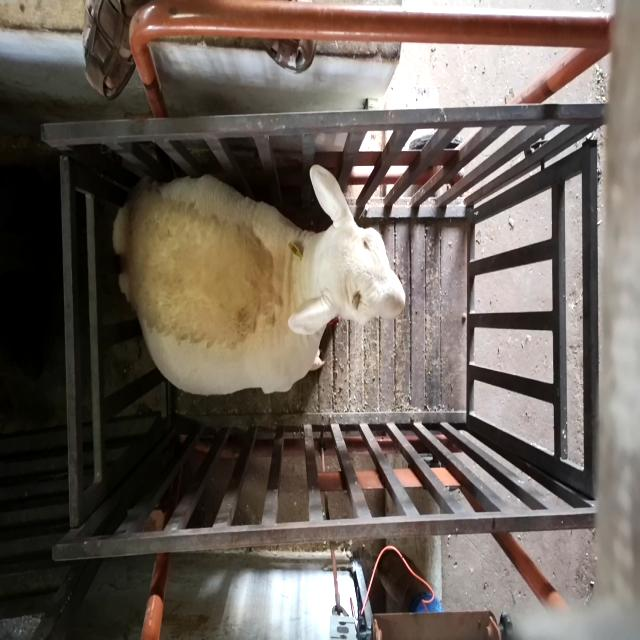sheep: (113, 164, 406, 396)
